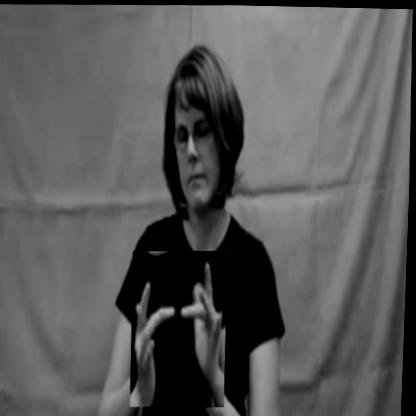Internet: (130, 248, 232, 407)
